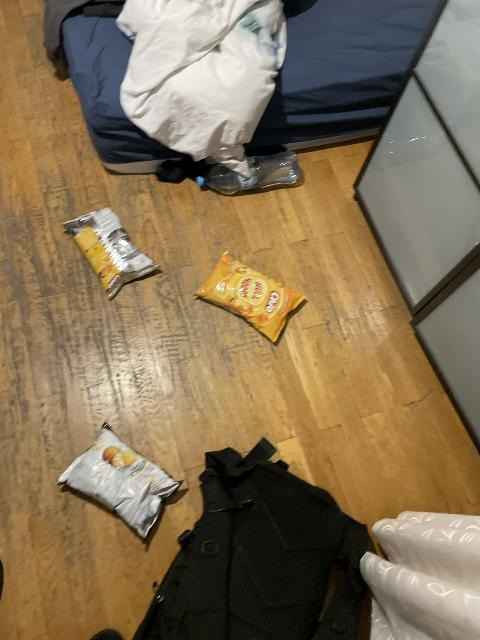Chio Cascaval 125g: (61, 210, 162, 299)
Chio Hula Hoops Cheese 70g: (195, 250, 307, 342)
Lays Beef Grilled Ribs 125g: (58, 422, 184, 538)
